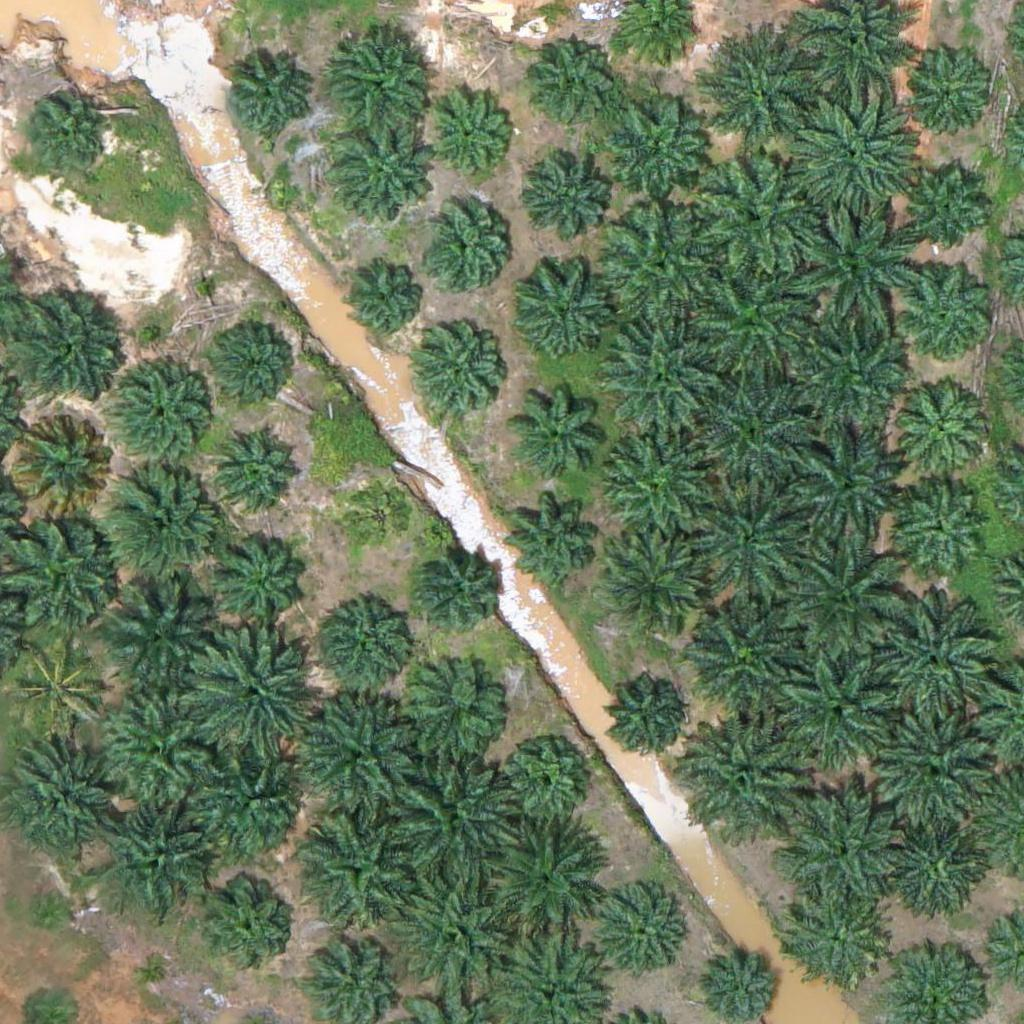Kelapa_Sawit: (881, 595, 1006, 721), (866, 711, 991, 837), (781, 420, 906, 546), (789, 91, 914, 217), (790, 203, 915, 329), (794, 318, 919, 444), (703, 26, 828, 152), (698, 151, 823, 277), (691, 254, 816, 380), (692, 367, 817, 493), (688, 475, 813, 601), (677, 713, 802, 839), (600, 200, 725, 326), (4, 280, 129, 406), (100, 456, 225, 582), (96, 687, 221, 813), (3, 734, 128, 860), (184, 630, 309, 756), (193, 749, 318, 875), (289, 694, 414, 820), (291, 809, 416, 935), (390, 752, 515, 878), (391, 869, 516, 995), (486, 809, 611, 935), (778, 876, 903, 1002), (775, 777, 900, 903), (89, 793, 214, 919), (775, 646, 900, 771), (783, 534, 908, 659), (99, 572, 224, 697), (682, 597, 795, 710), (6, 409, 119, 522), (396, 662, 509, 775), (107, 359, 219, 473), (598, 524, 710, 637), (602, 417, 714, 530), (602, 316, 714, 429), (895, 268, 995, 369), (890, 378, 990, 479), (887, 478, 987, 579), (610, 98, 710, 199), (506, 379, 606, 480), (505, 486, 605, 587), (333, 122, 433, 223), (329, 29, 429, 130), (208, 524, 308, 625), (311, 599, 411, 700), (197, 876, 297, 977), (897, 39, 997, 139), (511, 260, 611, 360), (588, 878, 688, 978), (877, 817, 977, 917), (501, 737, 589, 825), (532, 39, 620, 127), (425, 94, 513, 182), (422, 207, 510, 295), (414, 330, 502, 418), (224, 54, 312, 142), (413, 541, 500, 630), (23, 95, 110, 183), (342, 254, 429, 342), (902, 168, 989, 256), (526, 158, 613, 246), (216, 424, 303, 512), (211, 319, 298, 407), (702, 946, 777, 1022), (342, 477, 417, 553), (608, 680, 683, 755), (22, 885, 72, 935), (136, 947, 173, 985)
